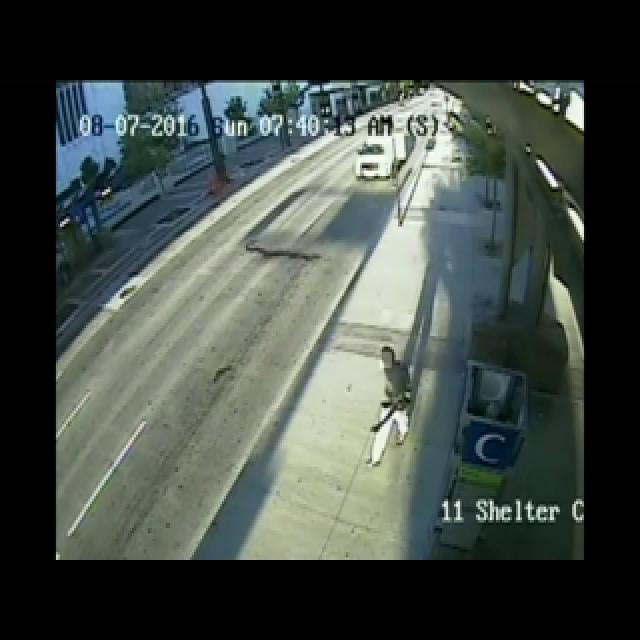arrest: (304, 167, 502, 576), (325, 246, 341, 279)
